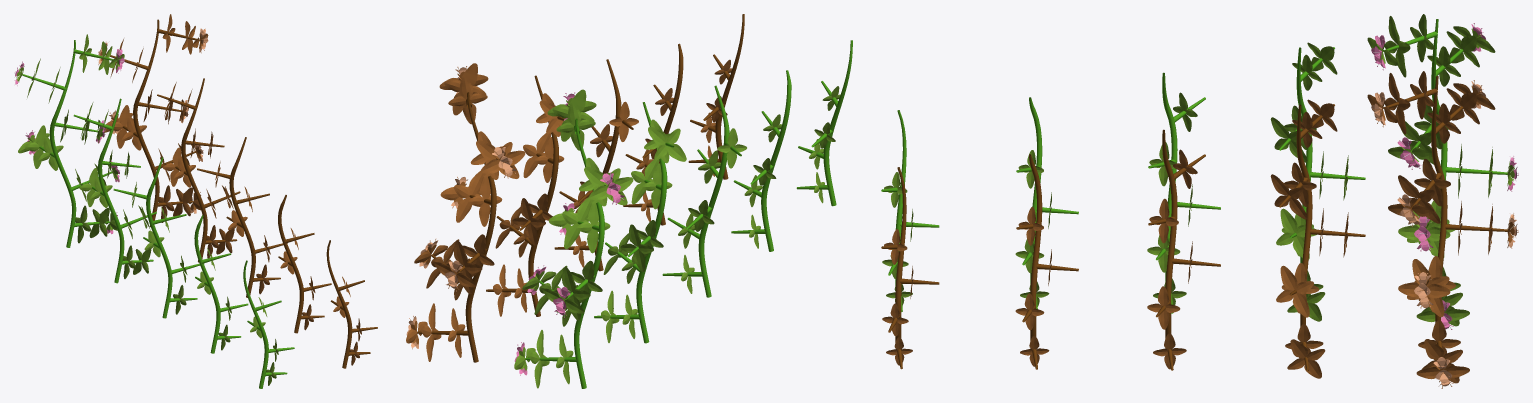
Rendered from Origan.glb.
3 renders of one model, left to right at view 1: azimuth 30°, elevation 25°; view 2: azimuth 150°, elevation 25°; view 3: azimuth 270°, elevation 25°, orthographic. The views are drawn at different scales.
Visible parts, largest first — view 1: BézierCurveBourgeons.003, BézierCurveBourgeons.008, BézierCurveBourgeons.002, BézierCurveBourgeons.007, BézierCurveBourgeons.001, BézierCurveBourgeons.006, BézierCurveBourgeons.005, BézierCurveBourgeons, BézierCurveBourgeons.004, BézierCurveBourgeons.009; view 2: BézierCurveBourgeons.003, BézierCurveBourgeons.008, BézierCurveBourgeons.002, BézierCurveBourgeons.007, BézierCurveBourgeons.001, BézierCurveBourgeons, BézierCurveBourgeons.006, BézierCurveBourgeons.004, BézierCurveBourgeons.009, BézierCurveBourgeons.005; view 3: BézierCurveBourgeons.008, BézierCurveBourgeons.003, BézierCurveBourgeons.007, BézierCurveBourgeons.002, BézierCurveBourgeons.006, BézierCurveBourgeons.001, BézierCurveBourgeons.005, BézierCurveBourgeons.009, BézierCurveBourgeons, BézierCurveBourgeons.004.
Boxes of the visible parts, box(x1,y1,x2,y2) form: BézierCurveBourgeons.003: box(14, 34, 124, 247); BézierCurveBourgeons.008: box(98, 14, 208, 227); BézierCurveBourgeons.002: box(73, 98, 156, 283); BézierCurveBourgeons.007: box(157, 78, 240, 262); BézierCurveBourgeons.001: box(113, 157, 204, 318); BézierCurveBourgeons.006: box(197, 137, 287, 297); BézierCurveBourgeons.005: box(278, 195, 331, 333); BézierCurveBourgeons: box(194, 215, 248, 353); BézierCurveBourgeons.004: box(243, 260, 294, 388); BézierCurveBourgeons.009: box(326, 240, 377, 368); BézierCurveBourgeons.003: box(514, 89, 633, 388); BézierCurveBourgeons.008: box(406, 63, 525, 362); BézierCurveBourgeons.002: box(594, 102, 686, 343); BézierCurveBourgeons.007: box(486, 75, 564, 316); BézierCurveBourgeons.001: box(662, 85, 746, 297); BézierCurveBourgeons: box(731, 70, 791, 251); BézierCurveBourgeons.006: box(554, 59, 638, 271); BézierCurveBourgeons.004: box(796, 40, 852, 206); BézierCurveBourgeons.009: box(688, 14, 744, 179); BézierCurveBourgeons.005: box(623, 43, 683, 225); BézierCurveBourgeons.008: box(1367, 71, 1518, 388); BézierCurveBourgeons.003: box(1367, 14, 1518, 329); BézierCurveBourgeons.007: box(1270, 99, 1365, 378); BézierCurveBourgeons.002: box(1270, 42, 1365, 321); BézierCurveBourgeons.006: box(1147, 129, 1220, 370); BézierCurveBourgeons.001: box(1147, 72, 1220, 313); BézierCurveBourgeons.005: box(1015, 154, 1078, 369); BézierCurveBourgeons.009: box(881, 167, 939, 369); BézierCurveBourgeons: box(1015, 97, 1078, 309); BézierCurveBourgeons.004: box(881, 110, 939, 311).
Size of the model in its own units: 2.12 by 2.48 by 4.72.
